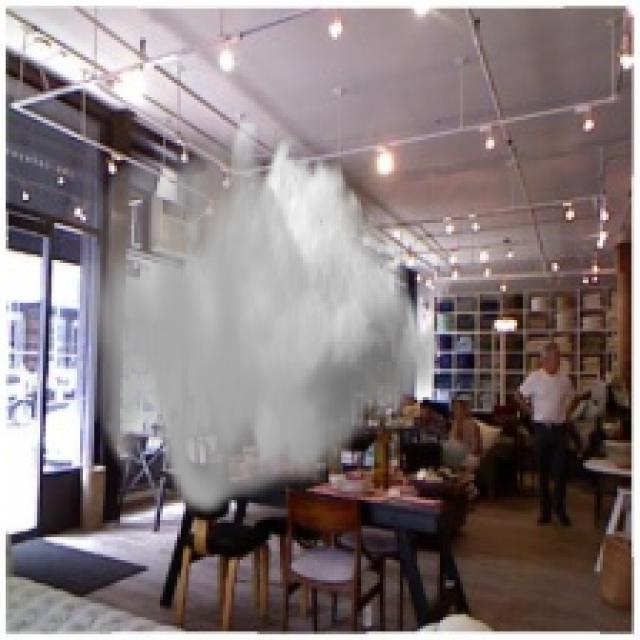Smoke: (77, 123, 443, 520)
